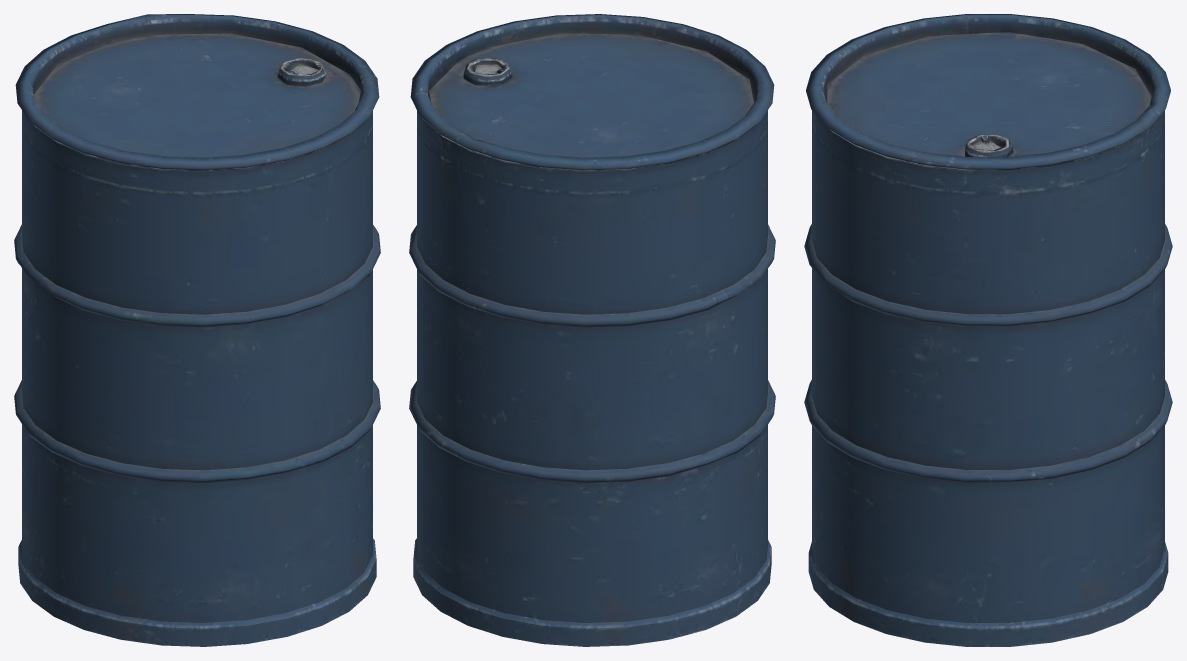
The model's file is barrel_03.glb.
3 renders of one model, left to right at view 1: azimuth 30°, elevation 25°; view 2: azimuth 150°, elevation 25°; view 3: azimuth 270°, elevation 25°, orthographic.
Visible parts, largest first — view 1: barrel_03; view 2: barrel_03; view 3: barrel_03.
Boxes of the visible parts, left/top/right/bottom form: barrel_03: left=14, top=14, right=380, bottom=646; barrel_03: left=409, top=14, right=775, bottom=646; barrel_03: left=804, top=14, right=1172, bottom=646.
Size of the model in its own units: 0.6339 by 0.9276 by 0.6386.
Materials: 1 (1 with a texture image).
